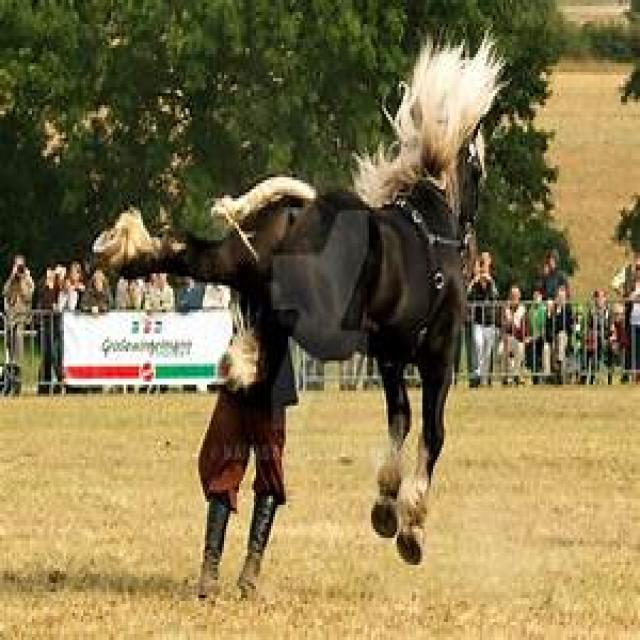animal: (90, 27, 508, 568)
